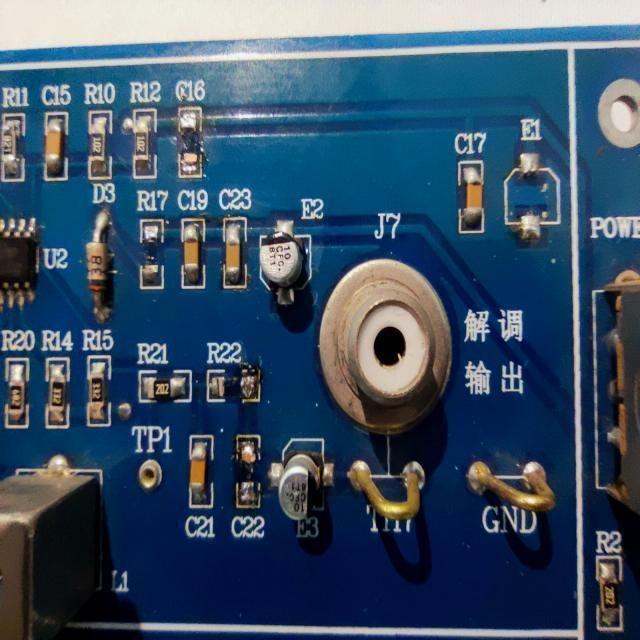Missing component: (502, 115, 562, 234), (229, 431, 270, 543), (133, 183, 170, 294), (205, 339, 265, 406), (172, 76, 210, 178)
